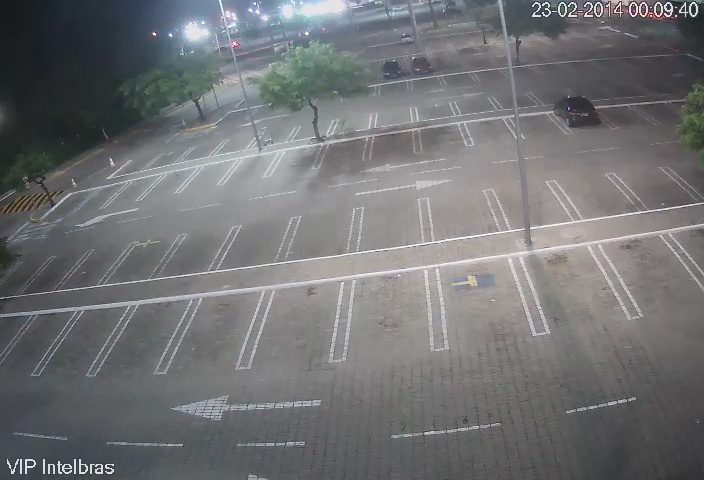car: (556, 100, 594, 126)
lot: (423, 253, 532, 349), (512, 252, 628, 331), (342, 270, 437, 363), (594, 232, 695, 318), (261, 274, 343, 374), (179, 286, 253, 374), (119, 296, 177, 382), (62, 306, 116, 381), (357, 200, 431, 254), (421, 190, 505, 234), (559, 172, 636, 219), (491, 182, 573, 226), (615, 171, 695, 212), (9, 312, 58, 378), (293, 208, 359, 257), (233, 219, 289, 268), (167, 229, 222, 276), (116, 239, 168, 286), (72, 244, 121, 287), (462, 120, 519, 154), (369, 132, 420, 168), (505, 115, 564, 145), (275, 145, 324, 180), (415, 127, 469, 157), (320, 143, 372, 172), (39, 250, 74, 292), (598, 105, 650, 133), (232, 155, 275, 186), (192, 160, 228, 193), (112, 177, 151, 207), (153, 173, 187, 202), (82, 183, 110, 216), (415, 102, 459, 123), (452, 95, 500, 114), (55, 191, 85, 217), (252, 127, 288, 148), (374, 108, 416, 126), (151, 146, 184, 168), (531, 86, 573, 102), (294, 126, 333, 143), (123, 154, 152, 176), (188, 142, 221, 161), (331, 117, 372, 131), (495, 91, 533, 106), (221, 137, 254, 152)
